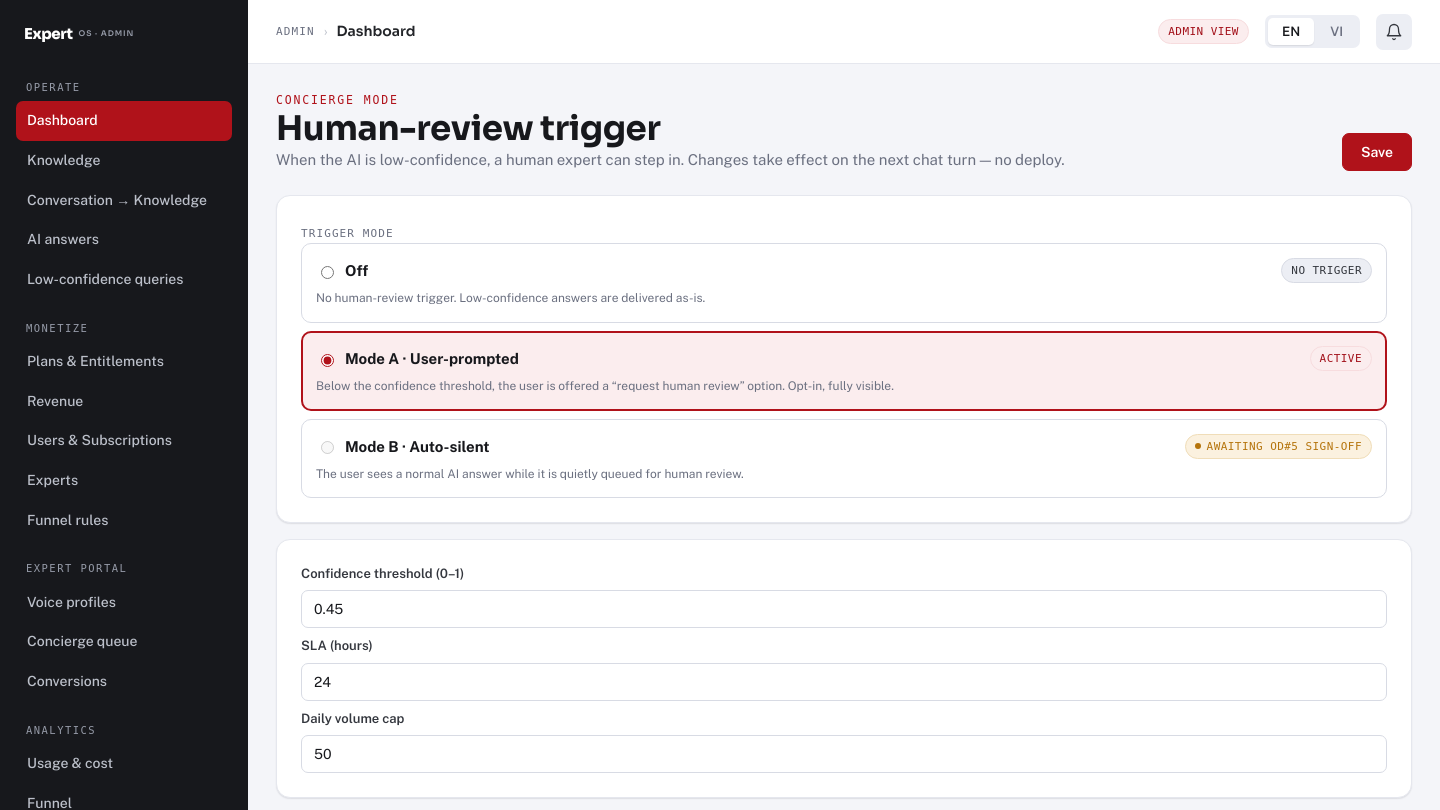
Test case: concierge settings — mode radio cards (M19.3.1) › posts the config from the pagehead Save action
// Switch to Off, then Save.
Click the radio button labelled "Off".
click(328, 272)  # box left=321, top=266, right=334, bottom=279
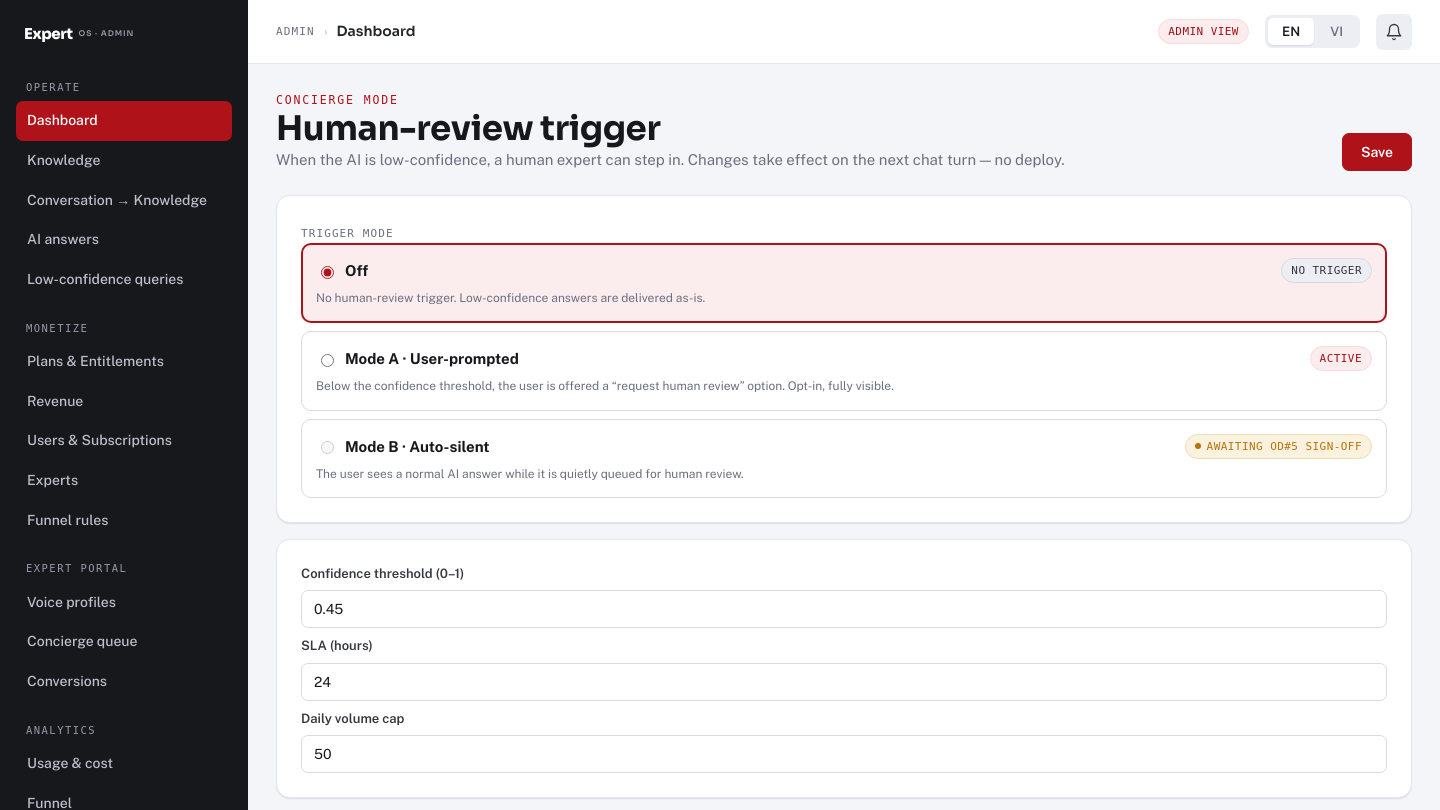
Click the button "Save".
click(1377, 152)  # box left=1342, top=133, right=1412, bottom=171
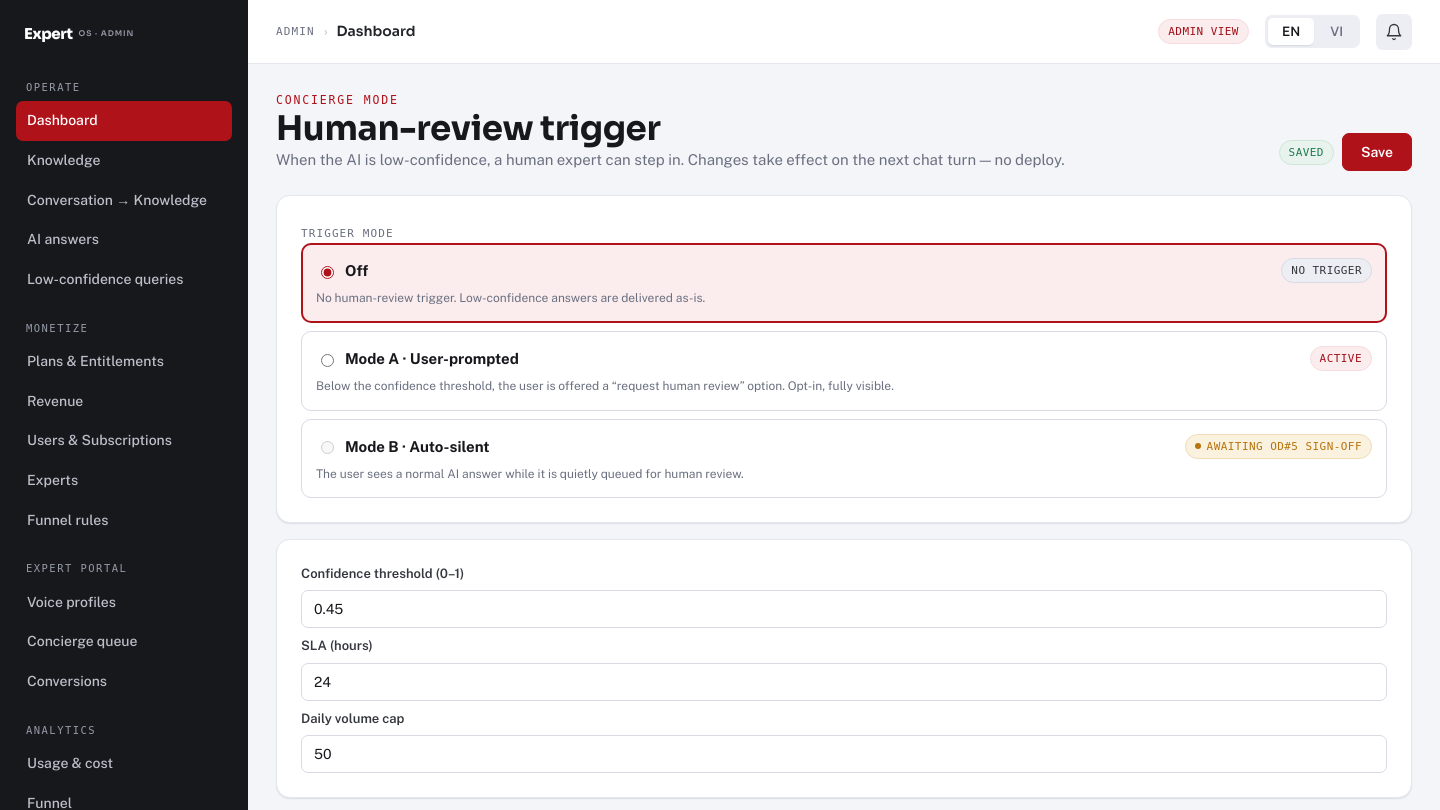
Check: the text "Saved" is shown, box left=1279, top=140, right=1334, bottom=165
